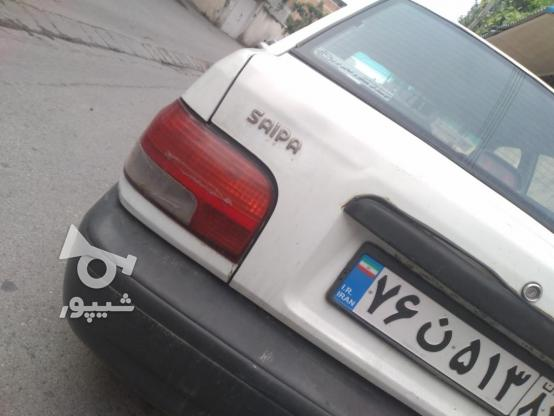car: (322, 237, 551, 416)
